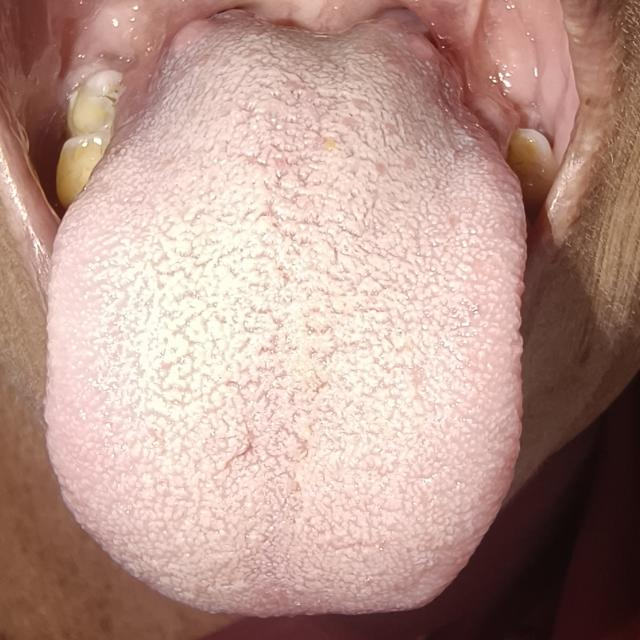leukoplakia-like-detection: (57, 7, 516, 615)
processing_area: (48, 8, 515, 612)
